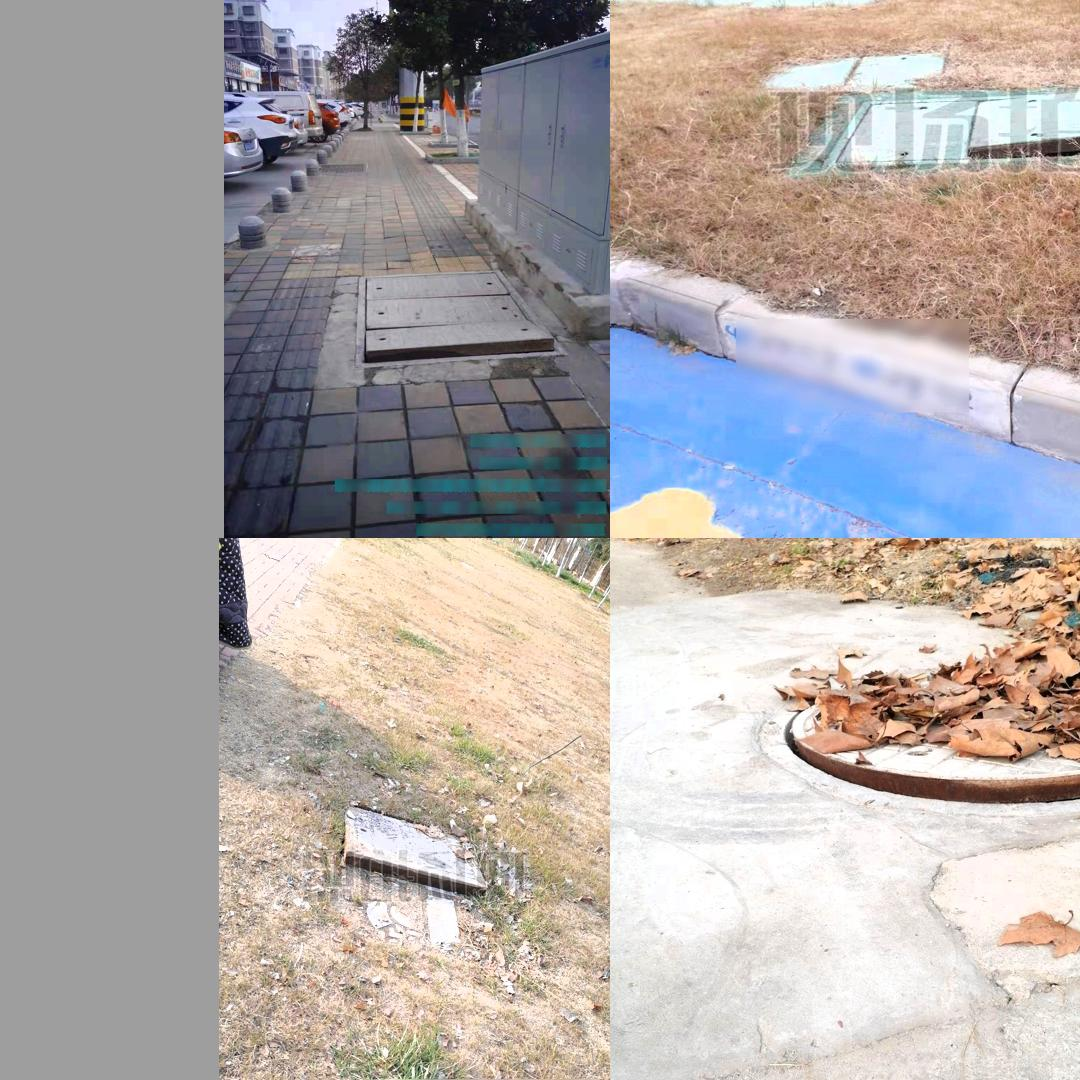uncovered: (757, 679, 1080, 813), (351, 268, 567, 373), (828, 85, 1080, 168), (314, 797, 497, 896)
